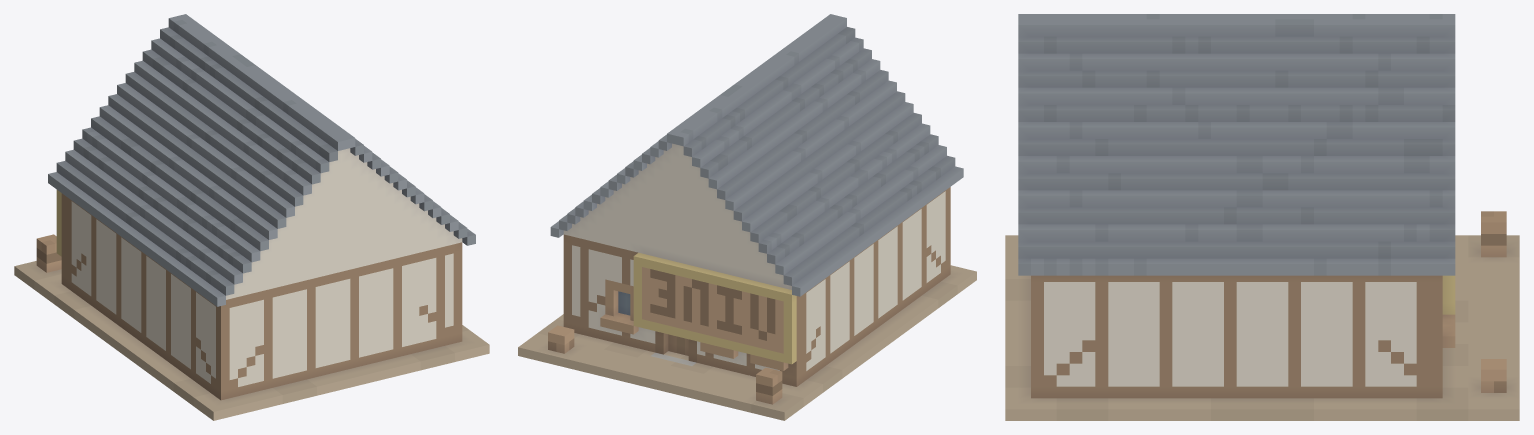
The model's file is vineyard.glb.
3 views of the same model, side by side, from view 1: azimuth 30°, elevation 25°; view 2: azimuth 150°, elevation 25°; view 3: azimuth 270°, elevation 25° (orthographic). The views are drawn at different scales.
Parts seen in each view (by area): view 1: vineyard; view 2: vineyard; view 3: vineyard.
Part boxes in pixels (x1,y1,x2,y2): vineyard: (14,14,489,420); vineyard: (518,14,976,420); vineyard: (1005,14,1519,420).
Size of the model in its own units: 4 by 3.38 by 5.
